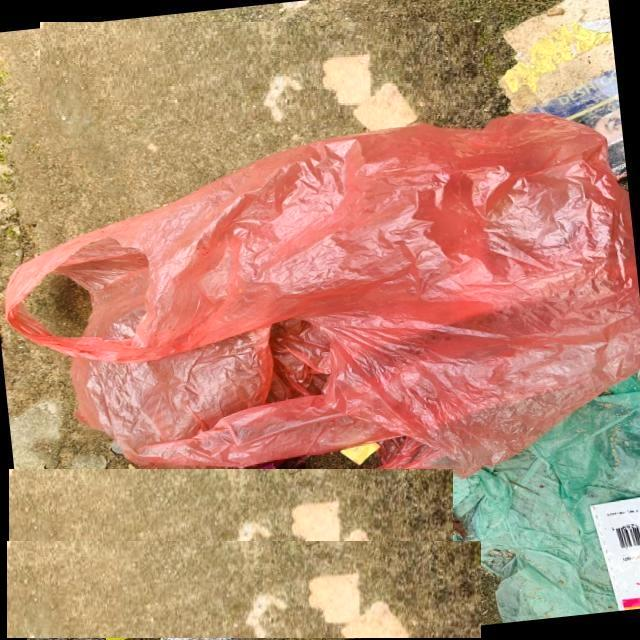polythene: (69, 93, 640, 489), (444, 373, 640, 640)
